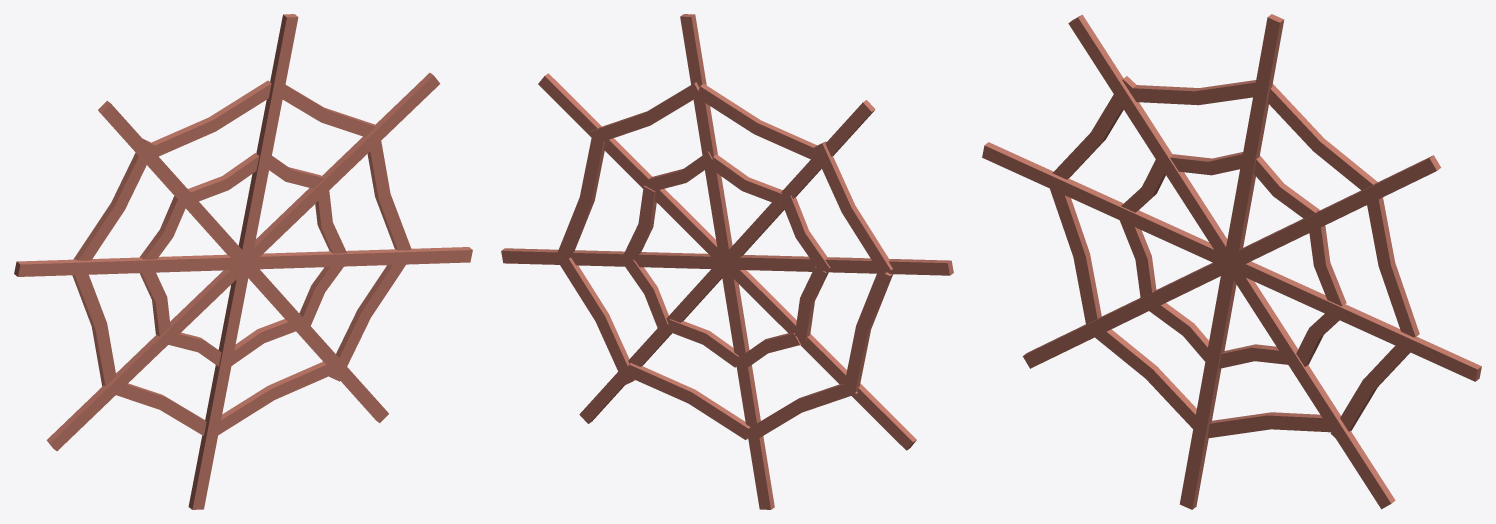
File: SM_Spiderweb.fbx
3 views of the same model, side by side, from view 1: azimuth 30°, elevation 25°; view 2: azimuth 150°, elevation 25°; view 3: azimuth 330°, elevation 25° (orthographic). The views are drawn at different scales.
Visible parts, largest first — view 1: Spiderweb; view 2: Spiderweb; view 3: Spiderweb.
Part boxes in pixels (bbox=[...]): Spiderweb: bbox=[14, 14, 472, 509]; Spiderweb: bbox=[501, 14, 953, 509]; Spiderweb: bbox=[982, 14, 1481, 509].
Bounding box in the file's own units: 29.26 × 29.32 × 1.32.
